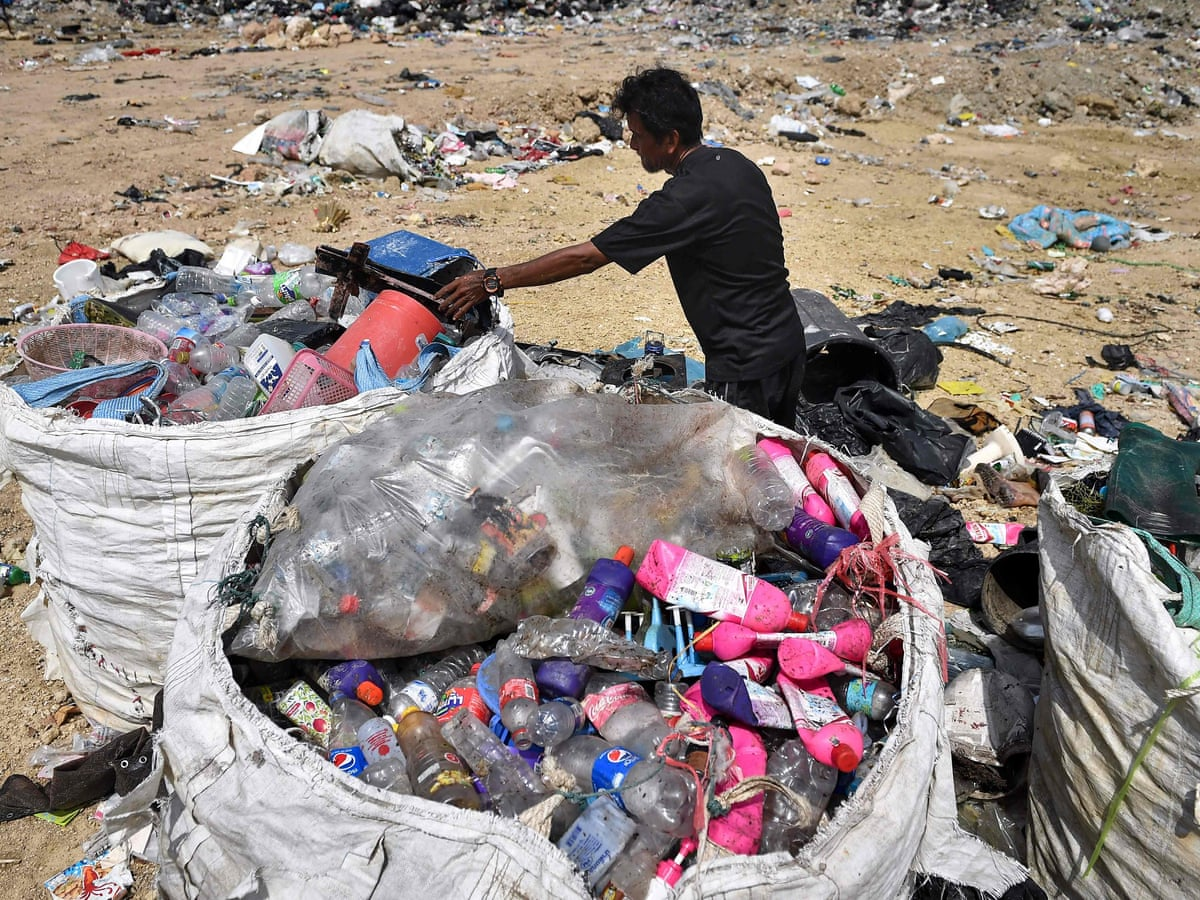plastic_bagwdw: (4, 190, 595, 876)
